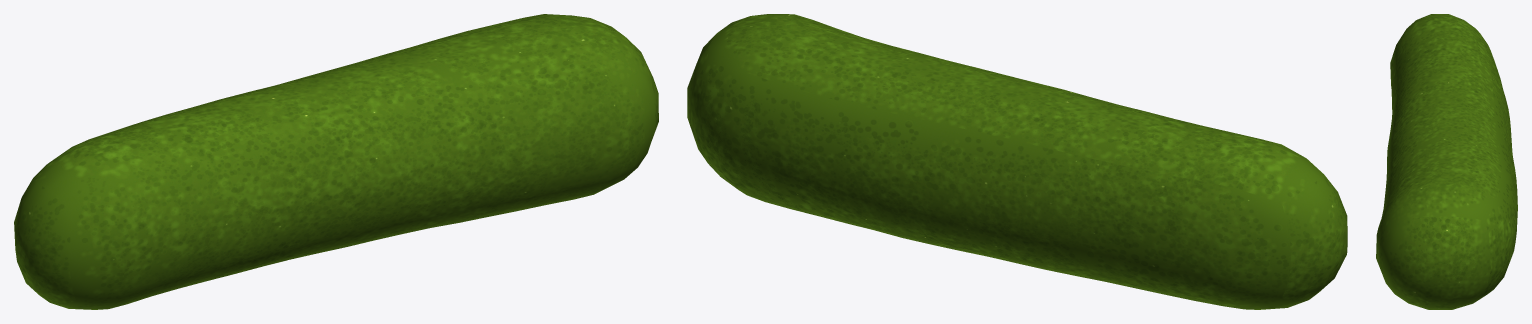
The model's file is StockCucumber_Visual.fbx.
The picture shows the model from 3 angles, left to right: view 1: azimuth 30°, elevation 25°; view 2: azimuth 150°, elevation 25°; view 3: azimuth 270°, elevation 25°; orthographic projection. The views are drawn at different scales.
Parts seen in each view (by area): view 1: StockCucumber; view 2: StockCucumber; view 3: StockCucumber.
Boxes of the visible parts, box(x1,y1,x2,y2) form: StockCucumber: box(14, 14, 658, 309); StockCucumber: box(687, 14, 1347, 309); StockCucumber: box(1376, 14, 1517, 309).
Size of the model in its own units: 20.32 by 5.1 by 5.38.
Materials: 1 (1 with a texture image).
